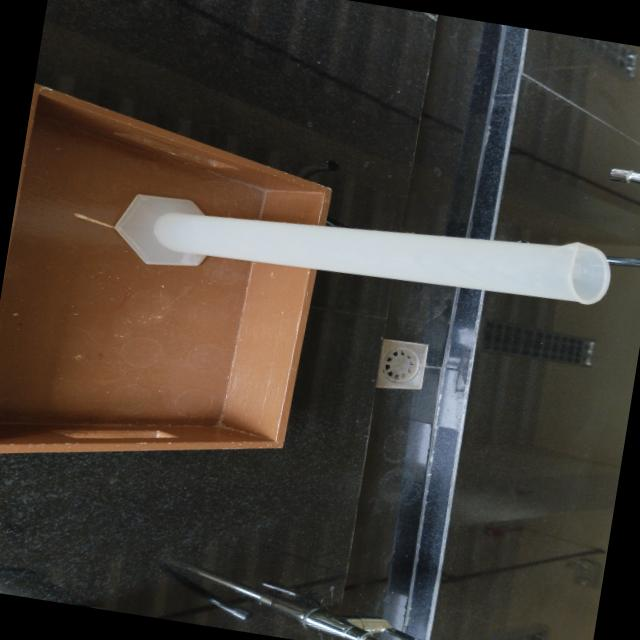graduated_cylinder: (105, 167, 623, 340)
